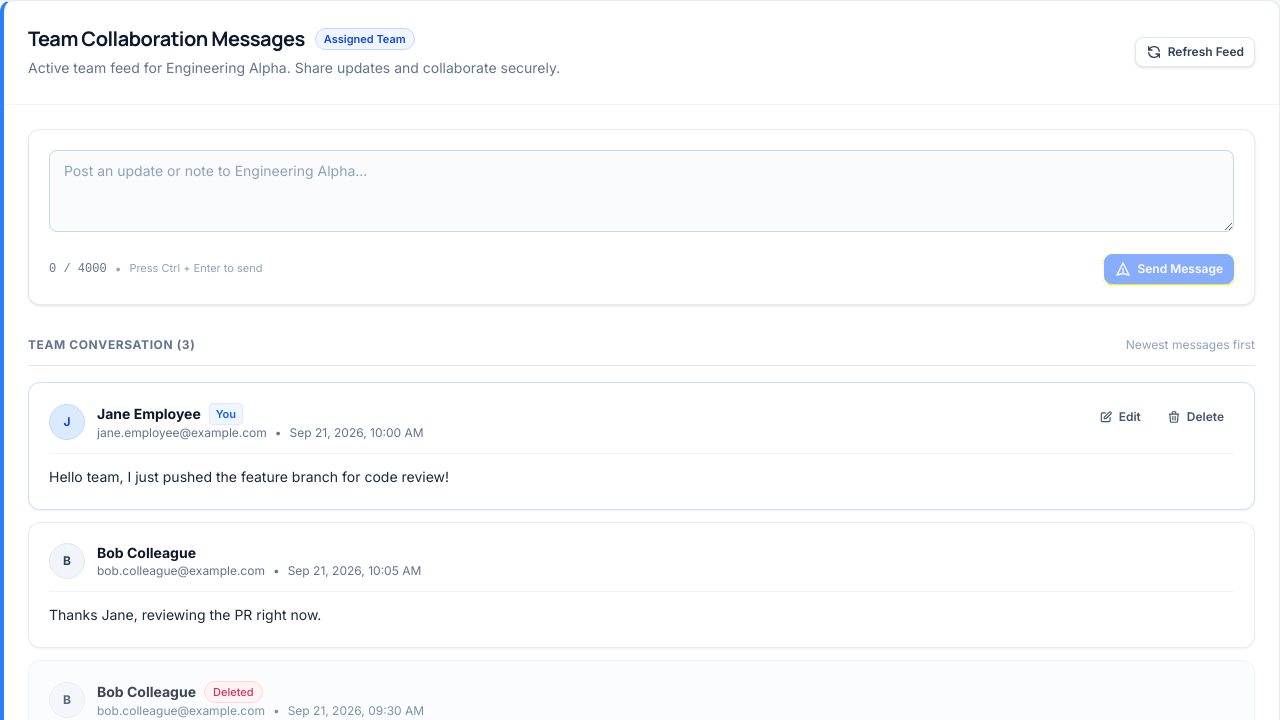
Scenario: Collaboration Messages Feature Suite › Employee Workflow › employee creates a new message and updates feed
This screenshot has width=1280, height=720.
Expected: the text "Hello team, I just pushed the feature branch for code review!" is shown, [49,468,449,485]
# Compose message
Type "Standup is starting in 5 minutes on the main channel." into the text box named "compose team message".
click(642, 191); type("Standup is starting in 5 minutes on the main channel.")  # box [49,150,1234,232]
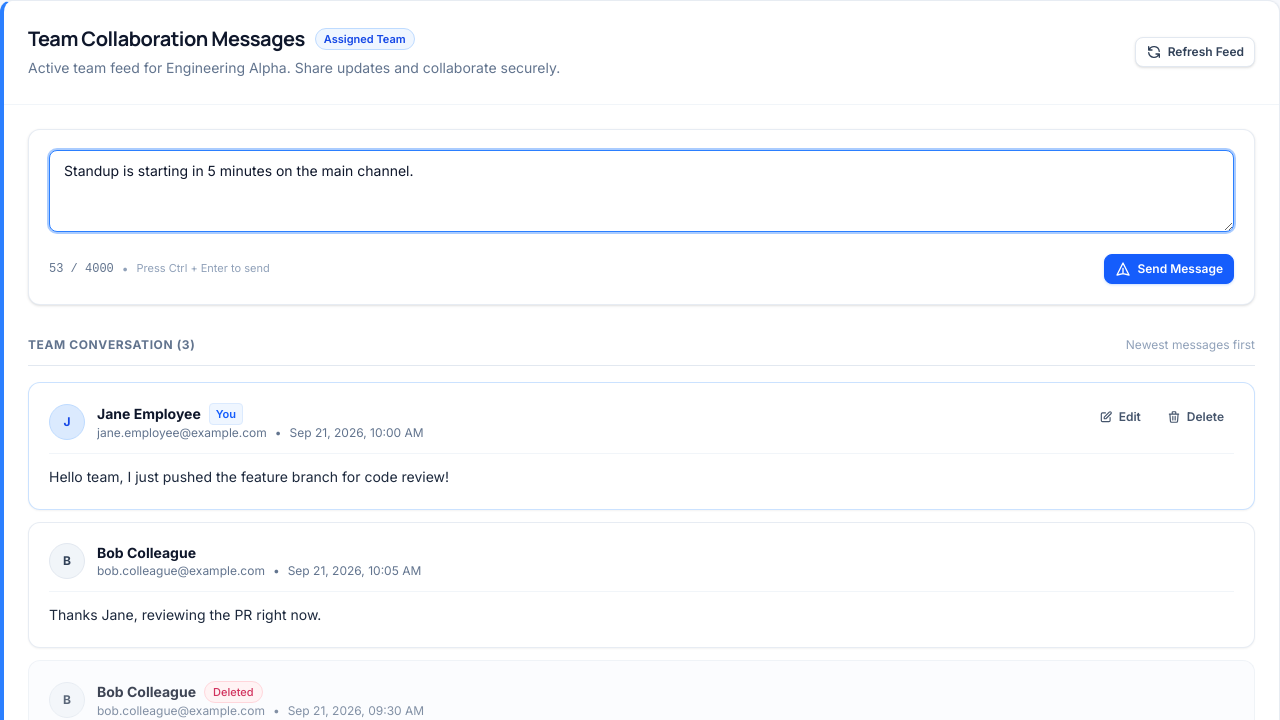
Now the text "53 / 4000" is shown, box [49,261,114,277]
Click the button "Send Message".
click(1169, 269)  # box [1104,254,1234,284]
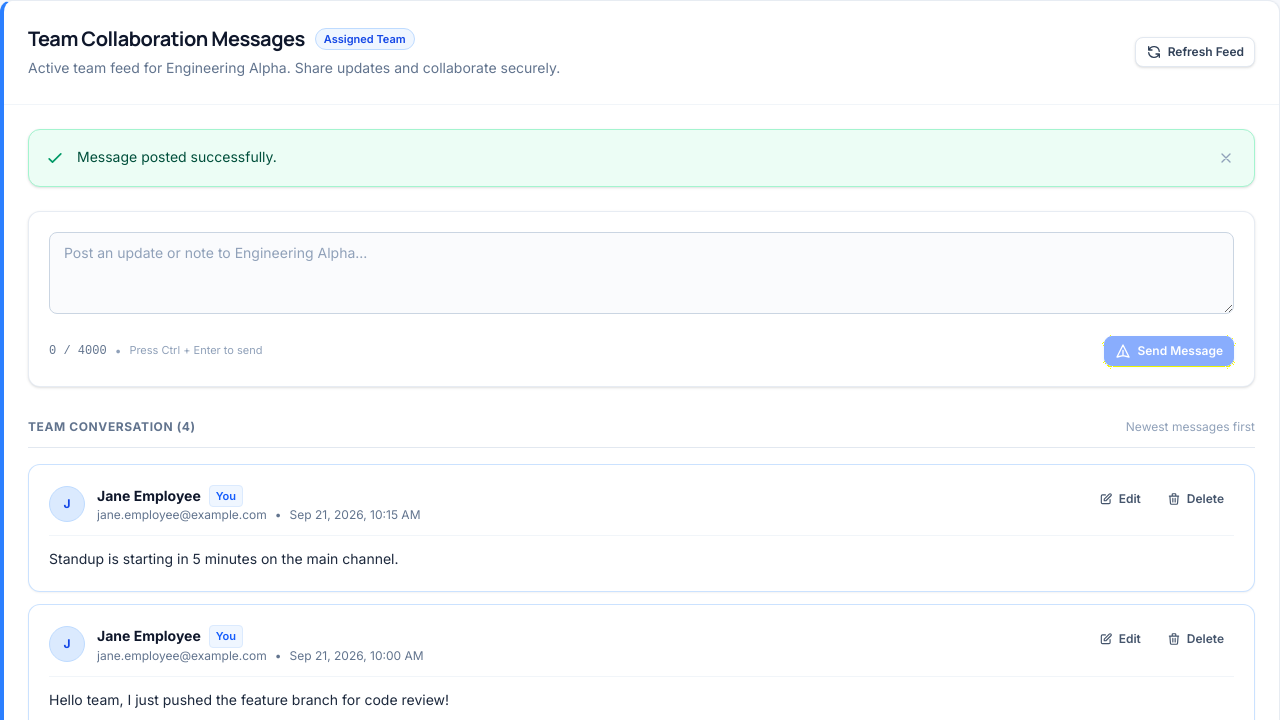
Now the text "Standup is starting in 5 minutes on the main channel." is shown, box [49,550,398,567]
Now the text "Message posted successfully." is shown, box [77,148,277,165]
